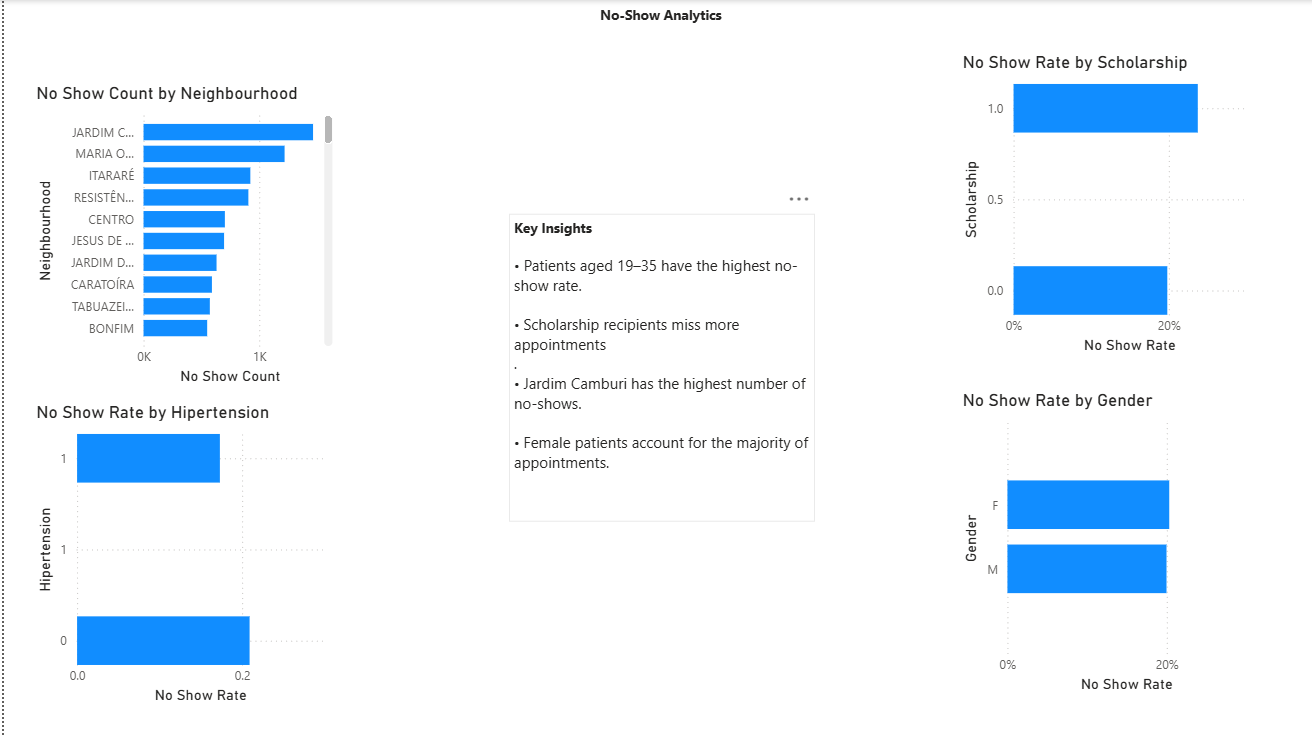

What the dashboard file says about the page in this screenshot:
{"tool":"powerbi","page":{"name":"No-Show Analytics","canvas":[1280,720],"ordinal":1},"visuals":[{"type":"textbox","box":[505,0,275.1,33],"z":0},{"type":"clusteredBarChart","fields":{"Category":["healthcare_db appointments_clean.Neighbourhood"],"Y":["healthcare_db appointments_clean.No Show Count"]},"box":[26.9,80.7,299.6,300.8],"z":1},{"type":"clusteredBarChart","fields":{"Category":["healthcare_db appointments_clean.Hipertension"],"Y":["healthcare_db appointments_clean.No Show Rate"]},"box":[27,392,300,301],"z":2},{"type":"clusteredBarChart","fields":{"Category":["healthcare_db appointments_clean.Scholarship"],"Y":["healthcare_db appointments_clean.No Show Rate"]},"box":[933,50.1,299.6,300.8],"z":3},{"type":"clusteredBarChart","fields":{"Category":["healthcare_db appointments_clean.Gender"],"Y":["healthcare_db appointments_clean.No Show Rate"]},"box":[933,381.5,299.6,300.8],"z":4},{"type":"textbox","box":[494,209.1,299.6,300.8],"z":5}]}

Visuals, with their boxes in screenshot pixels (x1, y1, x2, y2), scaled from the page's 1280x720 canvas onto the 1312x736 screenshot:
textbox: left=518, top=0, right=800, bottom=34
clusteredBarChart - healthcare_db appointments_clean.Neighbourhood x healthcare_db appointments_clean.No Show Count: left=28, top=82, right=335, bottom=390
clusteredBarChart - healthcare_db appointments_clean.Hipertension x healthcare_db appointments_clean.No Show Rate: left=28, top=401, right=335, bottom=708
clusteredBarChart - healthcare_db appointments_clean.Scholarship x healthcare_db appointments_clean.No Show Rate: left=956, top=51, right=1263, bottom=359
clusteredBarChart - healthcare_db appointments_clean.Gender x healthcare_db appointments_clean.No Show Rate: left=956, top=390, right=1263, bottom=697
textbox: left=506, top=214, right=813, bottom=521
